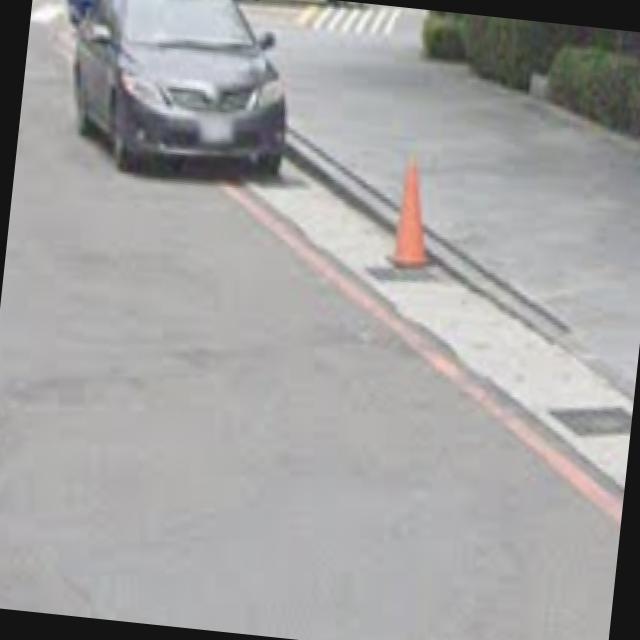cone: (382, 146, 444, 274)
